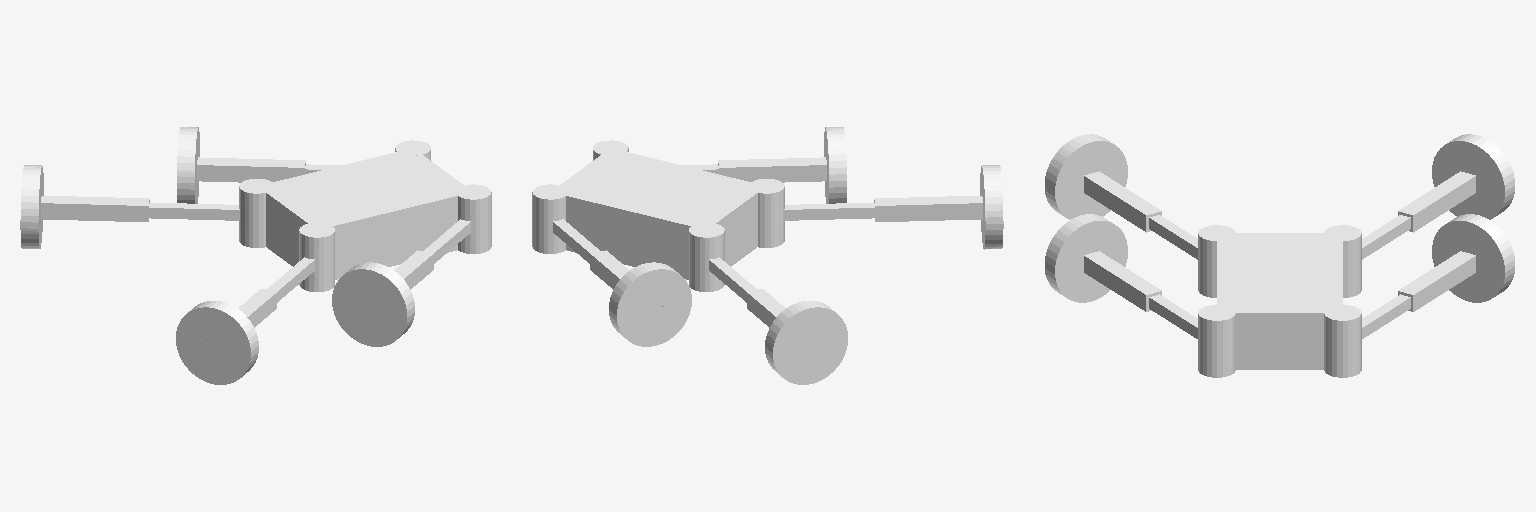
URDF robot description (roller_3rd):
<?xml version="1.0" encoding="utf-8"?>
<!-- This URDF was automatically created by SolidWorks to URDF Exporter! Originally created by [author] ([email redacted]) 
     Commit Version: 1.6.0-4-g7f85cfe  Build Version: 1.6.7995.38578
     For more information, please see http://wiki.ros.org/sw_urdf_exporter -->
<robot
  name="roller_3rd">
  <link
    name="base_link">
    <inertial>
      <origin
        xyz="0.00165468528771355 0 3.46944695195361E-18"
        rpy="0 0 0" />
      <mass
        value="5.71725666117692" />
      <inertia
        ixx="0.0225933299115147"
        ixy="-7.46338336817294E-18"
        ixz="-8.65561792975494E-20"
        iyy="0.0444190381762262"
        iyz="-5.95570041038183E-20"
        izz="0.0574836069857794" />
    </inertial>
    <visual>
      <origin
        xyz="0 0 0"
        rpy="0 0 0" />
      <geometry>
        <mesh
          filename="package://roller_3rd/meshes/base_link.STL" />
      </geometry>
      <material
        name="">
        <color
          rgba="1 1 1 1" />
      </material>
    </visual>
    <collision>
      <origin
        xyz="0 0 0"
        rpy="0 0 0" />
      <geometry>
        <mesh
          filename="package://roller_3rd/meshes/base_link.STL" />
      </geometry>
    </collision>
  </link>
  <link
    name="leg1_1_link">
    <inertial>
      <origin
        xyz="0.0229508358714046 5.55111512312578E-17 9.54097911787244E-18"
        rpy="0 0 0" />
      <mass
        value="0.350969420203415" />
      <inertia
        ixx="0.000303791179644144"
        ixy="5.42101086242752E-20"
        ixz="-9.10079262163607E-20"
        iyy="0.00119023844034398"
        iyz="-5.26721073892596E-21"
        izz="0.00101824231652429" />
    </inertial>
    <visual>
      <origin
        xyz="0 0 0"
        rpy="0 0 0" />
      <geometry>
        <mesh
          filename="package://roller_3rd/meshes/leg1_1_link.STL" />
      </geometry>
      <material
        name="">
        <color
          rgba="1 1 1 1" />
      </material>
    </visual>
    <collision>
      <origin
        xyz="0 0 0"
        rpy="0 0 0" />
      <geometry>
        <mesh
          filename="package://roller_3rd/meshes/leg1_1_link.STL" />
      </geometry>
    </collision>
  </link>
  <joint
    name="leg1_1_joint"
    type="continuous">
    <origin
      xyz="-0.147803901741747 -0.0996390580196406 0"
      rpy="0 0 -2.55359005004223" />
    <parent
      link="base_link" />
    <child
      link="leg1_1_link" />
    <axis
      xyz="0 0 1" />
    <limit
      lower="0"
      upper="6.2"
      effort="0"
      velocity="3" />
  </joint>
  <link
    name="leg1_2_Link">
    <inertial>
      <origin
        xyz="0.0200223800027242 5.55111512312578E-17 -0.015"
        rpy="0 0 0" />
      <mass
        value="0.111205750411731" />
      <inertia
        ixx="2.18856469213198E-05"
        ixy="1.6940658945086E-20"
        ixz="6.79741766887558E-21"
        iyy="0.000444744745767282"
        iyz="-9.23153143079456E-21"
        izz="0.000444744745767282" />
    </inertial>
    <visual>
      <origin
        xyz="0 0 0"
        rpy="0 0 0" />
      <geometry>
        <mesh
          filename="package://roller_3rd/meshes/leg1_2_Link.STL" />
      </geometry>
      <material
        name="">
        <color
          rgba="1 1 1 1" />
      </material>
    </visual>
    <collision>
      <origin
        xyz="0 0 0"
        rpy="0 0 0" />
      <geometry>
        <mesh
          filename="package://roller_3rd/meshes/leg1_2_Link.STL" />
      </geometry>
    </collision>
  </link>
  <joint
    name="leg1_2_joint"
    type="prismatic">
    <origin
      xyz="0.270650697408827 0 0.015"
      rpy="0 0 0" />
    <parent
      link="leg1_1_link" />
    <child
      link="leg1_2_Link" />
    <axis
      xyz="-1 0 0" />
    <limit
      lower="0"
      upper="0.2"
      effort="0"
      velocity="3" />
  </joint>
  <link
    name="leg1_3_Link">
    <inertial>
      <origin
        xyz="2.60208521396521E-18 -1.11022302462516E-16 2.22044604925031E-16"
        rpy="0 0 0" />
      <mass
        value="0.440608369665969" />
      <inertia
        ixx="0.00059757510135947"
        ixy="-1.13051991884092E-19"
        ixz="-3.71158038358037E-20"
        iyy="0.00059757510135947"
        iyz="-2.98155597433514E-19"
        izz="0.00112905894726905" />
    </inertial>
    <visual>
      <origin
        xyz="0 0 0"
        rpy="0 0 0" />
      <geometry>
        <mesh
          filename="package://roller_3rd/meshes/leg1_3_Link.STL" />
      </geometry>
      <material
        name="">
        <color
          rgba="1 1 1 1" />
      </material>
    </visual>
    <collision>
      <origin
        xyz="0 0 0"
        rpy="0 0 0" />
      <geometry>
        <mesh
          filename="package://roller_3rd/meshes/leg1_3_Link.STL" />
      </geometry>
    </collision>
  </link>
  <joint
    name="leg1_3_joint"
    type="continuous">
    <origin
      xyz="0.105 0 -0.0150000000000001"
      rpy="0 -1.5707963267949 0" />
    <parent
      link="leg1_2_Link" />
    <child
      link="leg1_3_Link" />
    <axis
      xyz="0 0 -1" />
  </joint>
  <link
    name="leg2_1_Link">
    <inertial>
      <origin
        xyz="0.0229508358714045 5.55111512312578E-17 5.20417042793042E-18"
        rpy="0 0 0" />
      <mass
        value="0.350969420203415" />
      <inertia
        ixx="0.000303791179644144"
        ixy="-2.98155597433514E-19"
        ixz="-1.5297854950715E-20"
        iyy="0.00119023844034398"
        iyz="7.68595383024475E-22"
        izz="0.0010182423165243" />
    </inertial>
    <visual>
      <origin
        xyz="0 0 0"
        rpy="0 0 0" />
      <geometry>
        <mesh
          filename="package://roller_3rd/meshes/leg2_1_Link.STL" />
      </geometry>
      <material
        name="">
        <color
          rgba="1 1 1 1" />
      </material>
    </visual>
    <collision>
      <origin
        xyz="0 0 0"
        rpy="0 0 0" />
      <geometry>
        <mesh
          filename="package://roller_3rd/meshes/leg2_1_Link.STL" />
      </geometry>
    </collision>
  </link>
  <joint
    name="leg2_1_joint"
    type="continuous">
    <origin
      xyz="-0.147803901741747 0.0996390580196404 0"
      rpy="0 0 2.55359005004223" />
    <parent
      link="base_link" />
    <child
      link="leg2_1_Link" />
    <axis
      xyz="0 0 1" />
    <limit
      lower="0"
      upper="6.2"
      effort="0"
      velocity="3" />
  </joint>
  <link
    name="leg2_2_Link">
    <inertial>
      <origin
        xyz="0.020022380002724 0 -0.015"
        rpy="0 0 0" />
      <mass
        value="0.111205750411731" />
      <inertia
        ixx="2.18856469213197E-05"
        ixy="6.52215369385811E-20"
        ixz="2.6318863250598E-20"
        iyy="0.000444744745767282"
        iyz="-4.28962018583184E-22"
        izz="0.000444744745767282" />
    </inertial>
    <visual>
      <origin
        xyz="0 0 0"
        rpy="0 0 0" />
      <geometry>
        <mesh
          filename="package://roller_3rd/meshes/leg2_2_Link.STL" />
      </geometry>
      <material
        name="">
        <color
          rgba="1 1 1 1" />
      </material>
    </visual>
    <collision>
      <origin
        xyz="0 0 0"
        rpy="0 0 0" />
      <geometry>
        <mesh
          filename="package://roller_3rd/meshes/leg2_2_Link.STL" />
      </geometry>
    </collision>
  </link>
  <joint
    name="leg2_2_joint"
    type="prismatic">
    <origin
      xyz="0.270650697408827 0 0.015"
      rpy="0 0 0" />
    <parent
      link="leg2_1_Link" />
    <child
      link="leg2_2_Link" />
    <axis
      xyz="1 0 0" />
    <limit
      lower="0"
      upper="0.2"
      effort="0"
      velocity="3" />
  </joint>
  <link
    name="leg2_3_Link">
    <inertial>
      <origin
        xyz="-8.67361737988404E-19 0 0"
        rpy="0 0 0" />
      <mass
        value="0.440608369665969" />
      <inertia
        ixx="0.00059757510135947"
        ixy="-6.00188944931833E-20"
        ixz="5.02128542454901E-21"
        iyy="0.00059757510135947"
        iyz="-2.43945488809238E-19"
        izz="0.00112905894726905" />
    </inertial>
    <visual>
      <origin
        xyz="0 0 0"
        rpy="0 0 0" />
      <geometry>
        <mesh
          filename="package://roller_3rd/meshes/leg2_3_Link.STL" />
      </geometry>
      <material
        name="">
        <color
          rgba="1 1 1 1" />
      </material>
    </visual>
    <collision>
      <origin
        xyz="0 0 0"
        rpy="0 0 0" />
      <geometry>
        <mesh
          filename="package://roller_3rd/meshes/leg2_3_Link.STL" />
      </geometry>
    </collision>
  </link>
  <joint
    name="leg2_3_joint"
    type="continuous">
    <origin
      xyz="0.105 0 -0.015"
      rpy="0 -1.5707963267949 0" />
    <parent
      link="leg2_2_Link" />
    <child
      link="leg2_3_Link" />
    <axis
      xyz="0 0 -1" />
  </joint>
  <link
    name="leg3_1_Link">
    <inertial>
      <origin
        xyz="0.0229508358714045 -1.38777878078145E-17 8.67361737988404E-18"
        rpy="0 0 0" />
      <mass
        value="0.350969420203415" />
      <inertia
        ixx="0.000303791179644144"
        ixy="1.35525271560688E-20"
        ixz="-9.11069723201289E-20"
        iyy="0.00119023844034398"
        iyz="2.09135589396779E-20"
        izz="0.0010182423165243" />
    </inertial>
    <visual>
      <origin
        xyz="0 0 0"
        rpy="0 0 0" />
      <geometry>
        <mesh
          filename="package://roller_3rd/meshes/leg3_1_Link.STL" />
      </geometry>
      <material
        name="">
        <color
          rgba="1 1 1 1" />
      </material>
    </visual>
    <collision>
      <origin
        xyz="0 0 0"
        rpy="0 0 0" />
      <geometry>
        <mesh
          filename="package://roller_3rd/meshes/leg3_1_Link.STL" />
      </geometry>
    </collision>
  </link>
  <joint
    name="leg3_1_joint"
    type="continuous">
    <origin
      xyz="0.152196098258253 0.0996390580196404 0"
      rpy="0 0 2.55359005004223" />
    <parent
      link="base_link" />
    <child
      link="leg3_1_Link" />
    <axis
      xyz="0 0 1" />
    <limit
      lower="0"
      upper="6.2"
      effort="0"
      velocity="3" />
  </joint>
  <link
    name="leg3_2_Link">
    <inertial>
      <origin
        xyz="0.0200223800027241 2.77555756156289E-17 -0.015"
        rpy="0 0 0" />
      <mass
        value="0.111205750411731" />
      <inertia
        ixx="2.18856469213199E-05"
        ixy="-7.87740640946499E-20"
        ixz="-5.46487573117288E-21"
        iyy="0.000444744745767282"
        iyz="5.43866104817508E-21"
        izz="0.000444744745767282" />
    </inertial>
    <visual>
      <origin
        xyz="0 0 0"
        rpy="0 0 0" />
      <geometry>
        <mesh
          filename="package://roller_3rd/meshes/leg3_2_Link.STL" />
      </geometry>
      <material
        name="">
        <color
          rgba="1 1 1 1" />
      </material>
    </visual>
    <collision>
      <origin
        xyz="0 0 0"
        rpy="0 0 0" />
      <geometry>
        <mesh
          filename="package://roller_3rd/meshes/leg3_2_Link.STL" />
      </geometry>
    </collision>
  </link>
  <joint
    name="leg3_2_joint"
    type="prismatic">
    <origin
      xyz="0.270650697408827 0 0.015"
      rpy="0 0 0" />
    <parent
      link="leg3_1_Link" />
    <child
      link="leg3_2_Link" />
    <axis
      xyz="-1 0 0" />
    <limit
      lower="0"
      upper="0.2"
      effort="0"
      velocity="3" />
  </joint>
  <link
    name="leg3_3_Link">
    <inertial>
      <origin
        xyz="1.73472347597681E-18 0 0"
        rpy="0 0 0" />
      <mass
        value="0.440608369665969" />
      <inertia
        ixx="0.00059757510135947"
        ixy="3.73750468809786E-20"
        ixz="-2.80484915575377E-20"
        iyy="0.000597575101359471"
        iyz="-5.42101086242752E-20"
        izz="0.00112905894726905" />
    </inertial>
    <visual>
      <origin
        xyz="0 0 0"
        rpy="0 0 0" />
      <geometry>
        <mesh
          filename="package://roller_3rd/meshes/leg3_3_Link.STL" />
      </geometry>
      <material
        name="">
        <color
          rgba="1 1 1 1" />
      </material>
    </visual>
    <collision>
      <origin
        xyz="0 0 0"
        rpy="0 0 0" />
      <geometry>
        <mesh
          filename="package://roller_3rd/meshes/leg3_3_Link.STL" />
      </geometry>
    </collision>
  </link>
  <joint
    name="leg3_3_joint"
    type="continuous">
    <origin
      xyz="0.105 0 -0.015"
      rpy="0 -1.5707963267949 0" />
    <parent
      link="leg3_2_Link" />
    <child
      link="leg3_3_Link" />
    <axis
      xyz="0 0 -1" />
  </joint>
  <link
    name="leg4_1_Link">
    <inertial>
      <origin
        xyz="0.0229508358714045 -5.55111512312578E-17 7.80625564189563E-18"
        rpy="0 0 0" />
      <mass
        value="0.350969420203415" />
      <inertia
        ixx="0.000303791179644144"
        ixy="-4.47233396150271E-19"
        ixz="-8.15651439121812E-20"
        iyy="0.00119023844034398"
        iyz="-4.73281423090706E-21"
        izz="0.0010182423165243" />
    </inertial>
    <visual>
      <origin
        xyz="0 0 0"
        rpy="0 0 0" />
      <geometry>
        <mesh
          filename="package://roller_3rd/meshes/leg4_1_Link.STL" />
      </geometry>
      <material
        name="">
        <color
          rgba="1 1 1 1" />
      </material>
    </visual>
    <collision>
      <origin
        xyz="0 0 0"
        rpy="0 0 0" />
      <geometry>
        <mesh
          filename="package://roller_3rd/meshes/leg4_1_Link.STL" />
      </geometry>
    </collision>
  </link>
  <joint
    name="leg4_1_joint"
    type="continuous">
    <origin
      xyz="0.152196098258253 -0.0996390580196402 0"
      rpy="0 0 -2.55359005004222" />
    <parent
      link="base_link" />
    <child
      link="leg4_1_Link" />
    <axis
      xyz="0 0 1" />
    <limit
      lower="0"
      upper="6.2"
      effort="0"
      velocity="3" />
  </joint>
  <link
    name="leg4_2_Link">
    <inertial>
      <origin
        xyz="0.0200223800027241 -5.55111512312578E-17 -0.015"
        rpy="0 0 0" />
      <mass
        value="0.111205750411731" />
      <inertia
        ixx="2.18856469213198E-05"
        ixy="-7.96210970419042E-20"
        ixz="1.16988580810433E-20"
        iyy="0.000444744745767282"
        iyz="-4.59912379973578E-21"
        izz="0.000444744745767282" />
    </inertial>
    <visual>
      <origin
        xyz="0 0 0"
        rpy="0 0 0" />
      <geometry>
        <mesh
          filename="package://roller_3rd/meshes/leg4_2_Link.STL" />
      </geometry>
      <material
        name="">
        <color
          rgba="1 1 1 1" />
      </material>
    </visual>
    <collision>
      <origin
        xyz="0 0 0"
        rpy="0 0 0" />
      <geometry>
        <mesh
          filename="package://roller_3rd/meshes/leg4_2_Link.STL" />
      </geometry>
    </collision>
  </link>
  <joint
    name="leg4_2_joint"
    type="prismatic">
    <origin
      xyz="0.270650697408827 0 0.0149999999999999"
      rpy="0 0 0" />
    <parent
      link="leg4_1_Link" />
    <child
      link="leg4_2_Link" />
    <axis
      xyz="-1 0 0" />
    <limit
      lower="0"
      upper="0.2"
      effort="0"
      velocity="3" />
  </joint>
  <link
    name="leg4_3_Link">
    <inertial>
      <origin
        xyz="-1.73472347597681E-18 -1.11022302462516E-16 1.11022302462516E-16"
        rpy="0 0 0" />
      <mass
        value="0.440608369665969" />
      <inertia
        ixx="0.000597575101359471"
        ixy="1.99001385197597E-19"
        ixz="-1.30912365153136E-20"
        iyy="0.000597575101359471"
        iyz="0"
        izz="0.00112905894726905" />
    </inertial>
    <visual>
      <origin
        xyz="0 0 0"
        rpy="0 0 0" />
      <geometry>
        <mesh
          filename="package://roller_3rd/meshes/leg4_3_Link.STL" />
      </geometry>
      <material
        name="">
        <color
          rgba="1 1 1 1" />
      </material>
    </visual>
    <collision>
      <origin
        xyz="0 0 0"
        rpy="0 0 0" />
      <geometry>
        <mesh
          filename="package://roller_3rd/meshes/leg4_3_Link.STL" />
      </geometry>
    </collision>
  </link>
  <joint
    name="leg4_3_joint"
    type="continuous">
    <origin
      xyz="0.105 0 -0.0149999999999999"
      rpy="0 -1.5707963267949 0" />
    <parent
      link="leg4_2_Link" />
    <child
      link="leg4_3_Link" />
    <axis
      xyz="0 0 -1" />
  </joint>
</robot>

--- Facts derived from the render (not from the file) ---
The picture shows the robot from 3 angles, left to right: view 1: azimuth 30°, elevation 25°; view 2: azimuth 150°, elevation 25°; view 3: azimuth 270°, elevation 25°; orthographic projection.
Robot: roller_3rd — 13 links, 12 joints (8 continuous, 4 prismatic); root link base_link; default pose: every joint at zero.
Visible links, largest first — view 1: base_link, leg4_3_Link, leg1_3_Link, leg2_1_Link, leg1_1_link, leg4_1_Link, leg2_2_Link, leg3_2_Link, leg2_3_Link, leg3_3_Link, leg4_2_Link, leg1_2_Link (+1 smaller); view 2: base_link, leg2_3_Link, leg3_3_Link, leg1_1_link, leg2_1_Link, leg3_1_Link, leg1_2_Link, leg4_2_Link, leg1_3_Link, leg4_3_Link, leg3_2_Link, leg2_2_Link (+1 smaller); view 3: base_link, leg3_3_Link, leg4_3_Link, leg1_3_Link, leg2_3_Link, leg4_1_Link, leg3_1_Link, leg1_1_link, leg2_1_Link, leg3_2_Link, leg4_2_Link, leg2_2_Link (+1 smaller).
Boxes of the visible links, bbox=[...] form: base_link: bbox=[266, 152, 463, 279]; leg4_3_Link: bbox=[332, 262, 414, 346]; leg1_3_Link: bbox=[176, 301, 258, 384]; leg2_1_Link: bbox=[149, 179, 274, 247]; leg1_1_link: bbox=[267, 223, 334, 302]; leg4_1_Link: bbox=[423, 184, 491, 263]; leg2_2_Link: bbox=[41, 196, 149, 221]; leg3_2_Link: bbox=[197, 157, 305, 182]; leg2_3_Link: bbox=[20, 165, 43, 248]; leg3_3_Link: bbox=[177, 127, 199, 203]; leg4_2_Link: bbox=[362, 250, 433, 315]; leg1_2_Link: bbox=[205, 289, 276, 353]; base_link: bbox=[560, 152, 757, 279]; leg2_3_Link: bbox=[765, 300, 847, 384]; leg3_3_Link: bbox=[609, 262, 691, 346]; leg1_1_link: bbox=[749, 179, 874, 247]; leg2_1_Link: bbox=[689, 223, 756, 302]; leg3_1_Link: bbox=[532, 184, 600, 263]; leg1_2_Link: bbox=[874, 196, 982, 221]; leg4_2_Link: bbox=[718, 157, 826, 182]; leg1_3_Link: bbox=[980, 165, 1003, 249]; leg4_3_Link: bbox=[824, 127, 846, 203]; leg3_2_Link: bbox=[590, 250, 661, 315]; leg2_2_Link: bbox=[747, 289, 818, 353]; base_link: bbox=[1217, 233, 1342, 369]; leg3_3_Link: bbox=[1432, 214, 1514, 302]; leg4_3_Link: bbox=[1045, 214, 1127, 302]; leg1_3_Link: bbox=[1045, 134, 1127, 219]; leg2_3_Link: bbox=[1432, 134, 1514, 219]; leg4_1_Link: bbox=[1149, 294, 1235, 377]; leg3_1_Link: bbox=[1324, 294, 1410, 377]; leg1_1_link: bbox=[1149, 215, 1235, 297]; leg2_1_Link: bbox=[1324, 215, 1410, 297]; leg3_2_Link: bbox=[1398, 251, 1475, 311]; leg4_2_Link: bbox=[1084, 251, 1161, 311]; leg2_2_Link: bbox=[1398, 171, 1475, 232].
Size in the robot's own frame: 0.6933 by 0.7491 by 0.14 metres.
13 mesh visuals loaded from 13 distinct referenced files (13 binary STL).